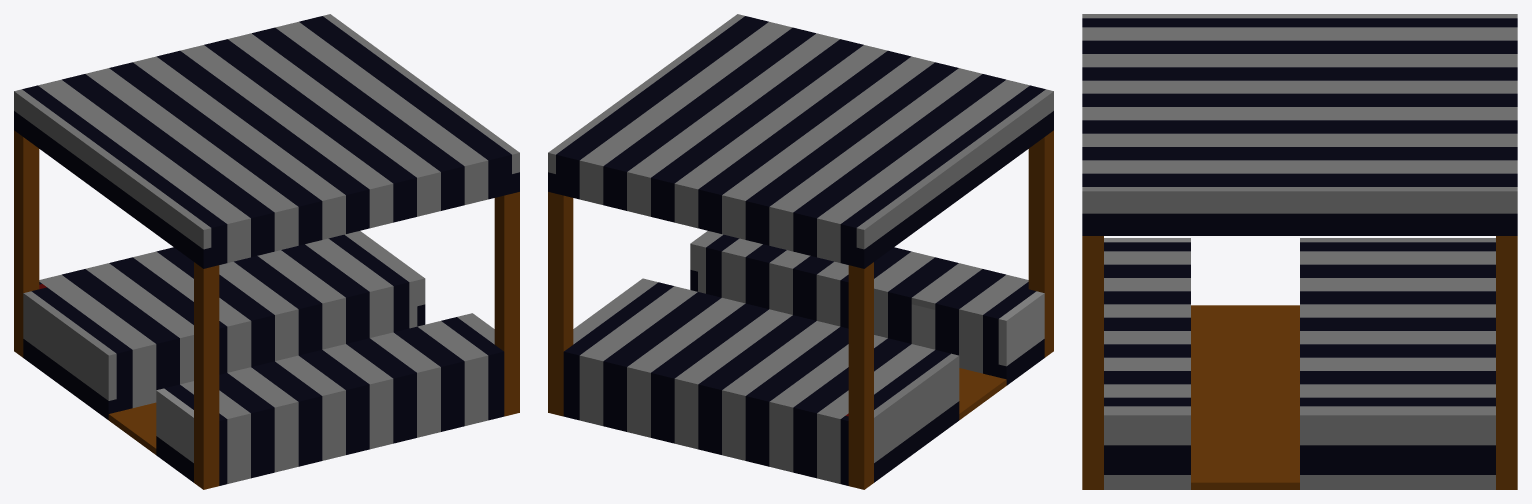
File: Stall_Blue.fbx
The picture shows the model from 3 angles, left to right: view 1: azimuth 30°, elevation 25°; view 2: azimuth 150°, elevation 25°; view 3: azimuth 270°, elevation 25°; orthographic projection. The views are drawn at different scales.
Visible parts, largest first — view 1: stall_blue_Mesh; view 2: stall_blue_Mesh; view 3: stall_blue_Mesh.
Part boxes in pixels (x1=…): stall_blue_Mesh: x1=14, y1=14, x2=519, y2=489; stall_blue_Mesh: x1=548, y1=14, x2=1053, y2=489; stall_blue_Mesh: x1=1082, y1=14, x2=1517, y2=489.
Size of the model in its own units: 3.83 by 3.01 by 3.98.
Materials: 1 (1 with a texture image).
